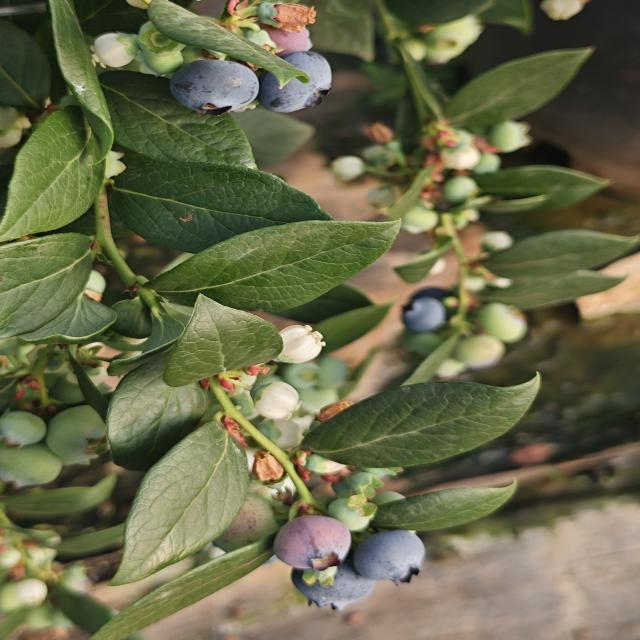ripe: (284, 550, 379, 614), (348, 522, 434, 589), (172, 55, 262, 115), (257, 56, 328, 116), (399, 294, 443, 333)
